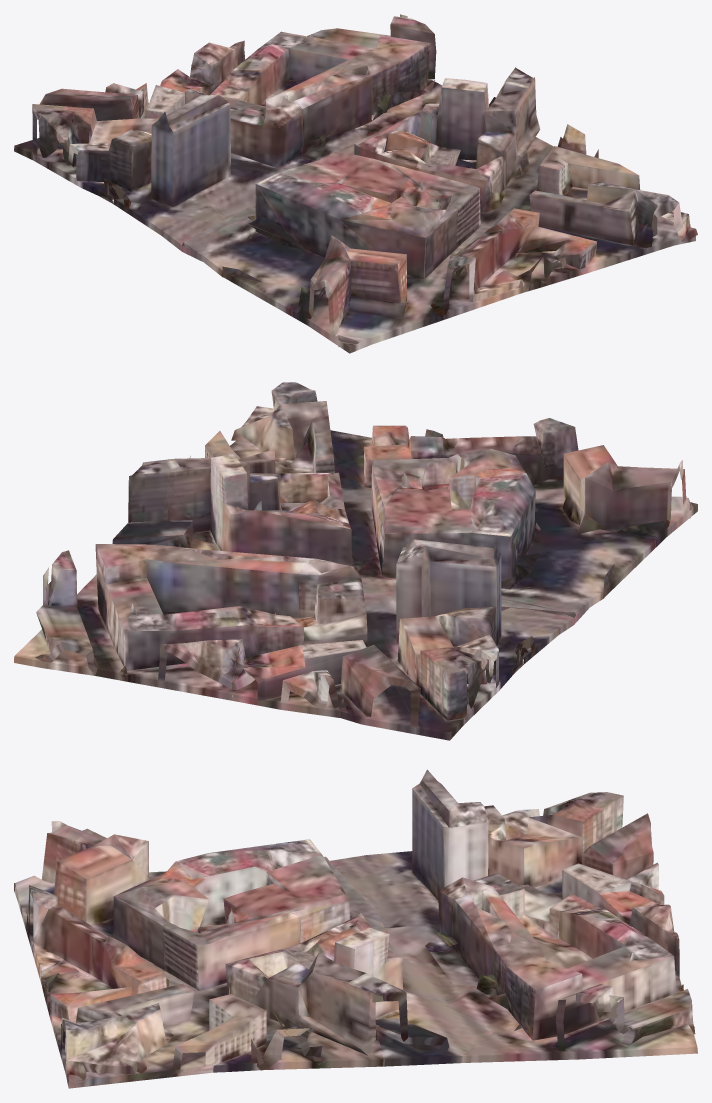
The picture shows the model from 3 angles, top to bottom: view 1: azimuth 30°, elevation 25°; view 2: azimuth 150°, elevation 25°; view 3: azimuth 270°, elevation 25°; orthographic projection. The views are drawn at different scales.
Visible parts, largest first — view 1: Mesh_0; view 2: Mesh_0; view 3: Mesh_0.
Boxes of the visible parts, <box> form: Mesh_0: <box>14,14,697,353</box>; Mesh_0: <box>14,382,697,740</box>; Mesh_0: <box>14,769,697,1088</box>.
Bounding box in the file's own units: 267 × 64.25 × 330.
Materials: 2 (2 with a texture image).
